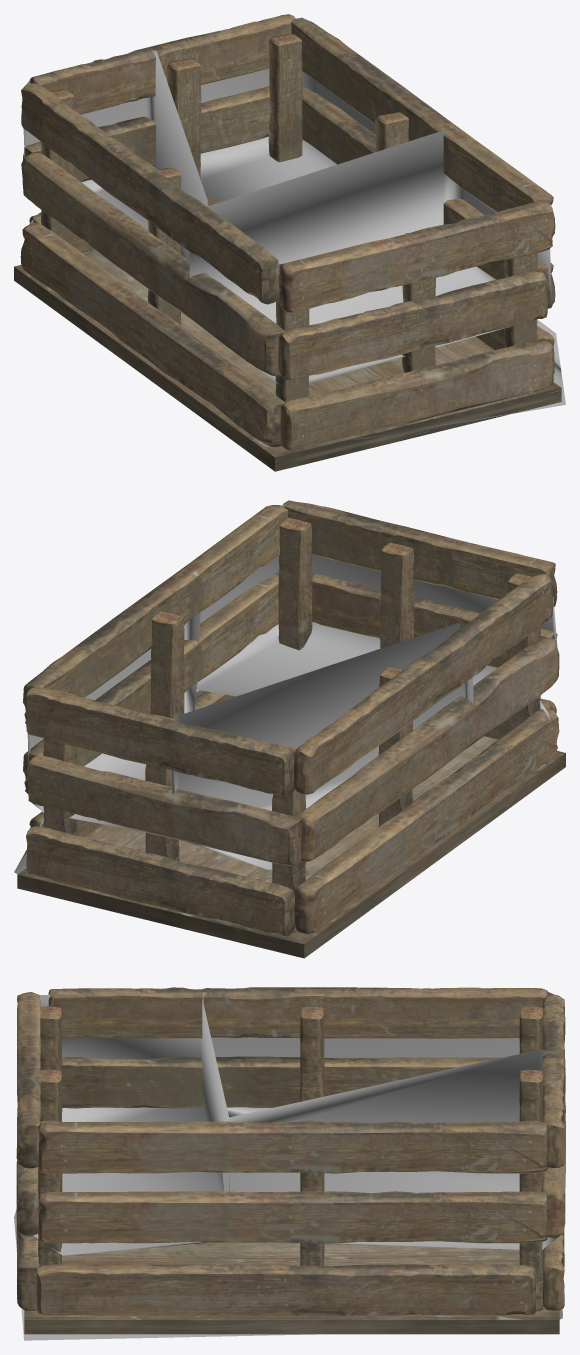
The model's file is SM_Crate.gltf.
3 views of the same model, one above another, from view 1: azimuth 30°, elevation 25°; view 2: azimuth 150°, elevation 25°; view 3: azimuth 270°, elevation 25° (orthographic). The views are drawn at different scales.
Parts seen in each view (by area): view 1: SM_Crate_LOD0, SM_Crate_ConvexHulls; view 2: SM_Crate_LOD0, SM_Crate_ConvexHulls; view 3: SM_Crate_LOD0, SM_Crate_ConvexHulls.
Part boxes in pixels (x1=…): SM_Crate_LOD0: x1=14, y1=14, x2=561, y2=471; SM_Crate_ConvexHulls: x1=23, y1=50, x2=565, y2=439; SM_Crate_LOD0: x1=17, y1=500, x2=565, y2=958; SM_Crate_ConvexHulls: x1=14, y1=540, x2=556, y2=874; SM_Crate_LOD0: x1=16, y1=987, x2=565, y2=1334; SM_Crate_ConvexHulls: x1=14, y1=992, x2=563, y2=1340.
Size of what is drawn, in the model's own units: 0.5437 by 0.3689 by 0.867.
